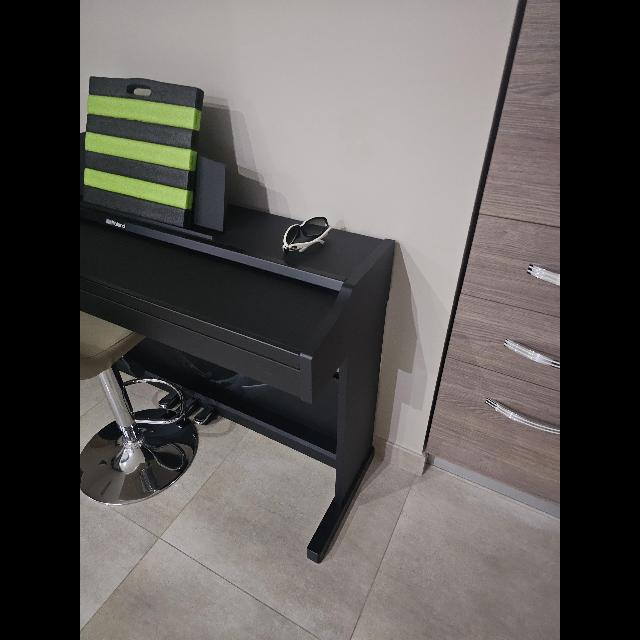Sunglasses: (282, 217, 332, 253)
